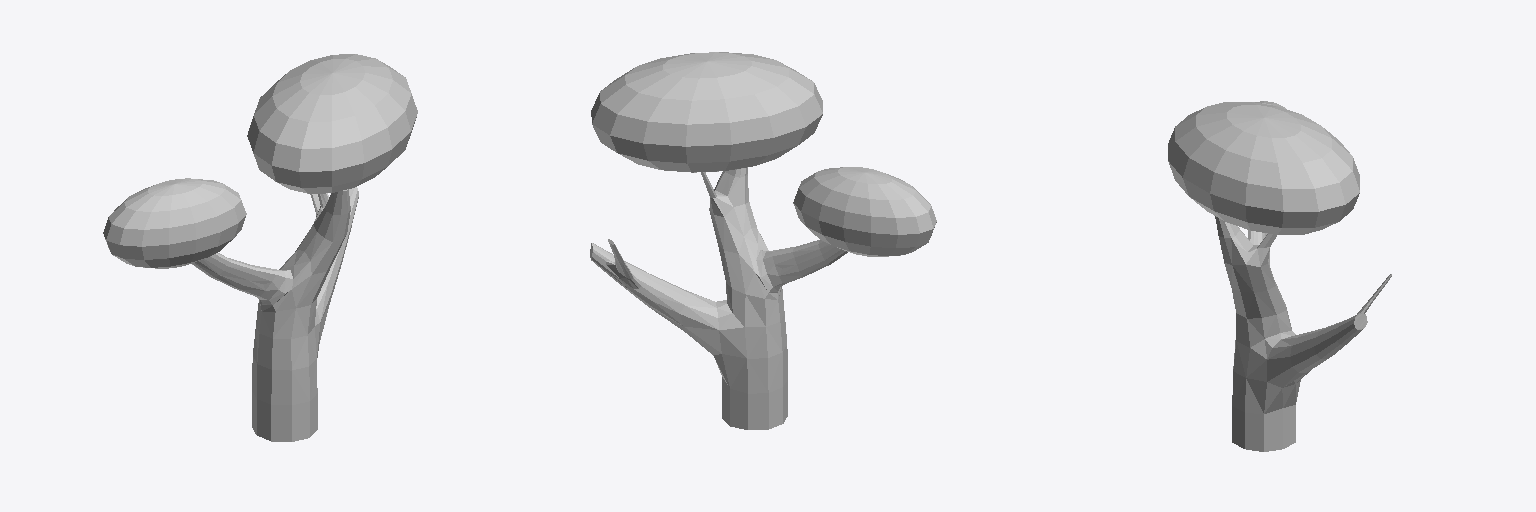
Rendered from tree.obj.
3 views of the same model, side by side, from view 1: azimuth 30°, elevation 25°; view 2: azimuth 150°, elevation 25°; view 3: azimuth 270°, elevation 25° (orthographic).
Parts seen in each view (by area): view 1: sphere2_copy3, cylinder3, sphere2; view 2: sphere2_copy3, cylinder3, sphere2; view 3: sphere2_copy3, cylinder3.
Part boxes in pixels (bbox=[...]): sphere2_copy3: bbox=[247, 54, 417, 193]; cylinder3: bbox=[192, 187, 358, 441]; sphere2: bbox=[103, 178, 246, 268]; sphere2_copy3: bbox=[591, 52, 822, 172]; cylinder3: bbox=[590, 167, 847, 429]; sphere2: bbox=[793, 167, 936, 256]; sphere2_copy3: bbox=[1168, 102, 1359, 234]; cylinder3: bbox=[1215, 216, 1391, 451].
Bounding box in the file's own units: 11.34 × 11.8 × 6.98.